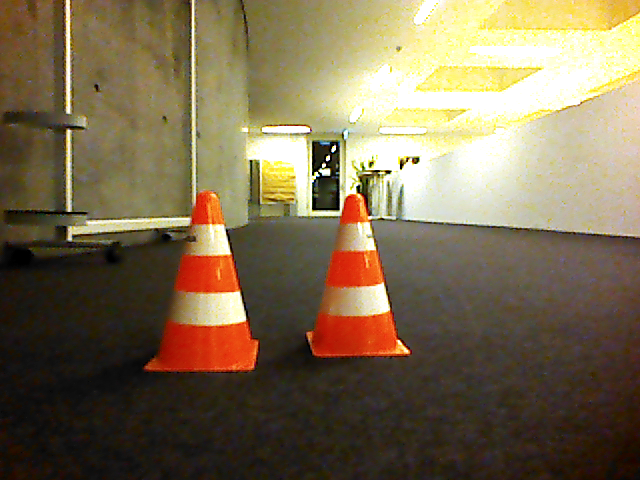orangeconesmall: (143, 189, 258, 375), (304, 193, 413, 360)
